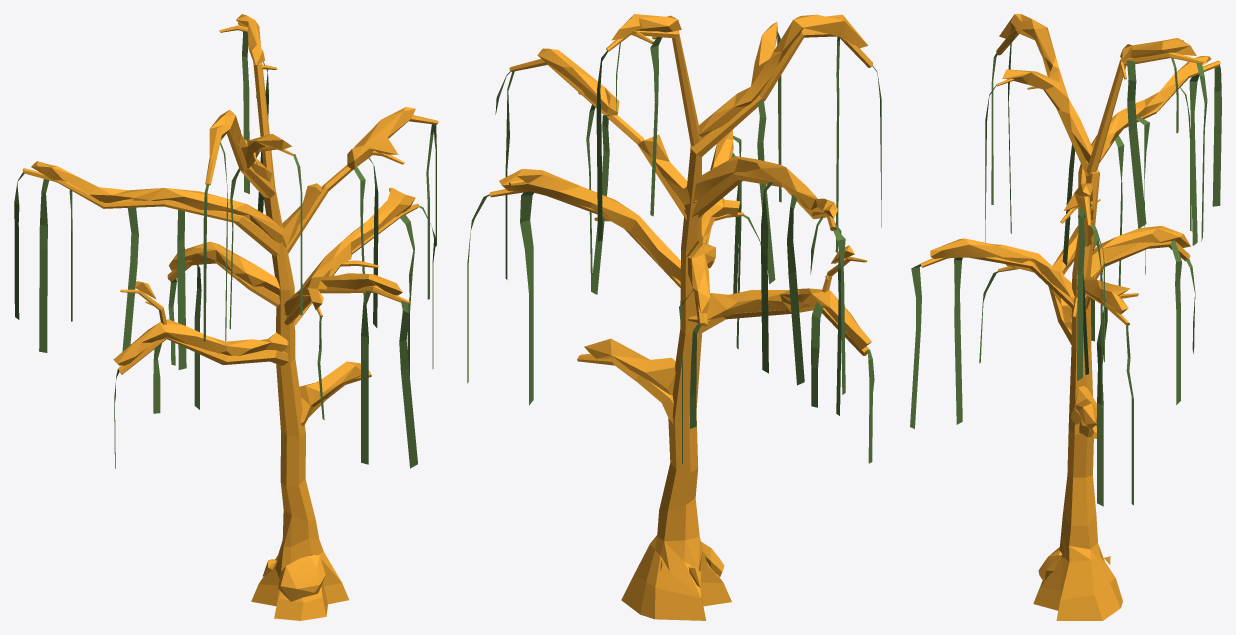
Rendered from SM_Tree_Willow_Weeping_Young_A_Bare_Snow.fbx.
3 views of the same model, side by side, from view 1: azimuth 30°, elevation 25°; view 2: azimuth 150°, elevation 25°; view 3: azimuth 270°, elevation 25° (orthographic). The views are drawn at different scales.
Visible parts, largest first — view 1: tree-willow-weeping-young-a-bare-snow; view 2: tree-willow-weeping-young-a-bare-snow; view 3: tree-willow-weeping-young-a-bare-snow.
Part boxes in pixels (x1,y1,x2,y2): tree-willow-weeping-young-a-bare-snow: (14,14,438,620); tree-willow-weeping-young-a-bare-snow: (467,14,881,620); tree-willow-weeping-young-a-bare-snow: (910,14,1221,620).
Size of the model in its own units: 2.63 by 3.69 by 1.86.
